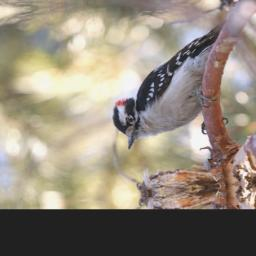Woodpecker: (102, 23, 242, 151)
